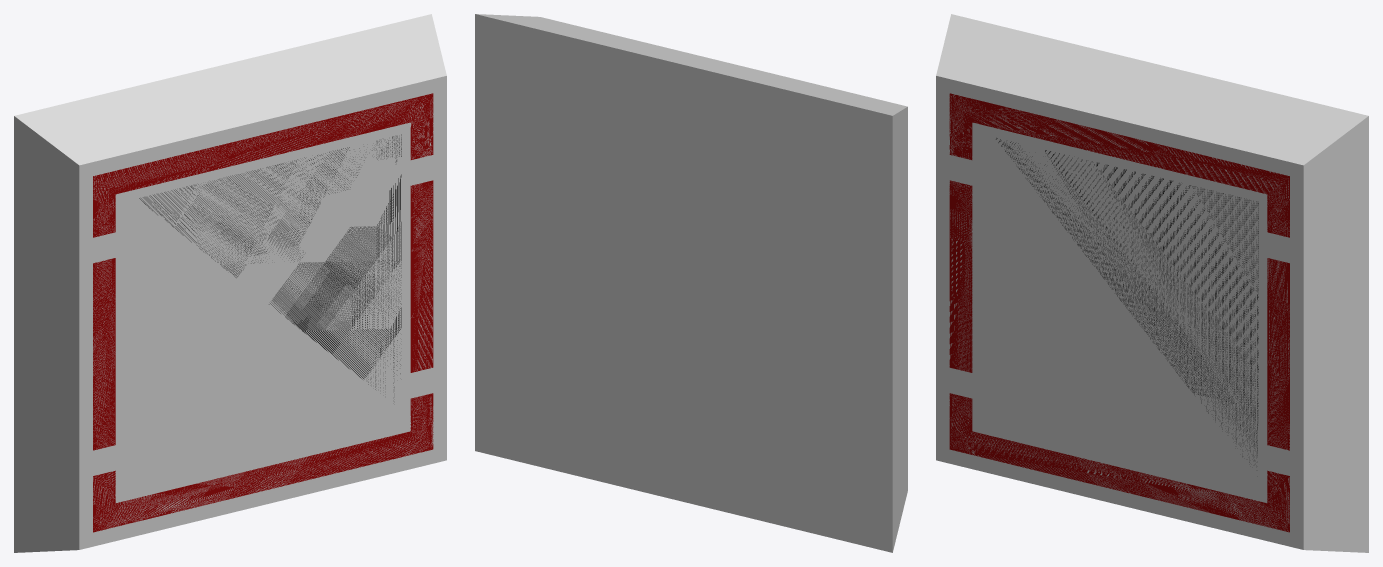
File: scifi_semiotic_s_airlock.fbx
3 views of the same model, side by side, from view 1: azimuth 30°, elevation 25°; view 2: azimuth 150°, elevation 25°; view 3: azimuth 330°, elevation 25° (orthographic).
Visible parts, largest first — view 1: Model; view 2: Model; view 3: Model.
Boxes of the visible parts, left/top/right/bottom form: Model: left=14, top=14, right=446, bottom=552; Model: left=475, top=14, right=907, bottom=552; Model: left=936, top=14, right=1368, bottom=552.
Bounding box in the file's own units: 57.94 × 57.94 × 9.66.
